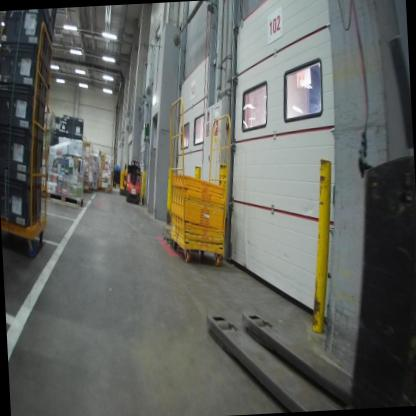pallet: (45, 191, 85, 207)
pallet_truck: (173, 24, 416, 415), (119, 152, 145, 210), (118, 157, 133, 197)
